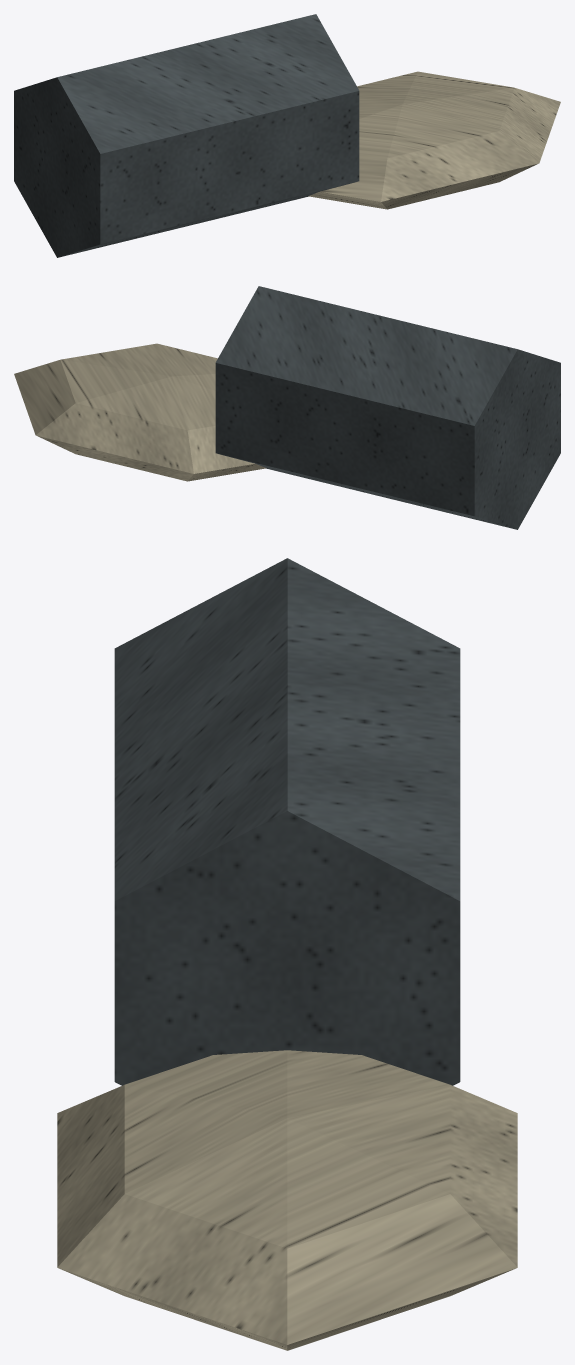
File: PROP-78013D8C2257_lod2.glb
The picture shows the model from 3 angles, top to bottom: view 1: azimuth 30°, elevation 25°; view 2: azimuth 150°, elevation 25°; view 3: azimuth 270°, elevation 25°; orthographic projection. The views are drawn at different scales.
Visible parts, largest first — view 1: fallen_can.001, spilled_rubbish.001; view 2: fallen_can.001, spilled_rubbish.001; view 3: fallen_can.001, spilled_rubbish.001.
Boxes of the visible parts, x1=… form: fallen_can.001: x1=14, y1=14, x2=359, y2=257; spilled_rubbish.001: x1=308, y1=71, x2=560, y2=209; fallen_can.001: x1=215, y1=286, x2=560, y2=529; spilled_rubbish.001: x1=14, y1=343, x2=266, y2=481; fallen_can.001: x1=114, y1=558, x2=460, y2=1085; spilled_rubbish.001: x1=57, y1=1050, x2=517, y2=1350.
Size of the model in its own units: 1.75 by 0.61 by 0.6928.
2 materials, 2 textured.
